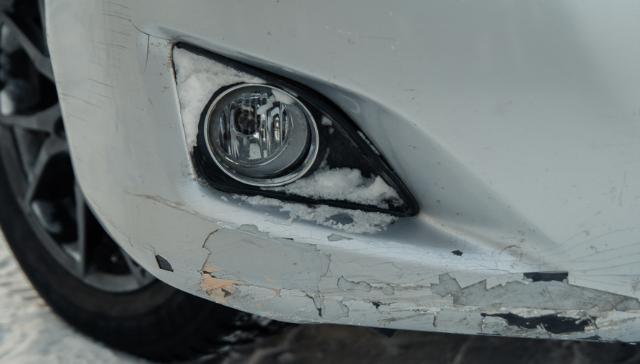Bumper: (74, 3, 640, 346)
